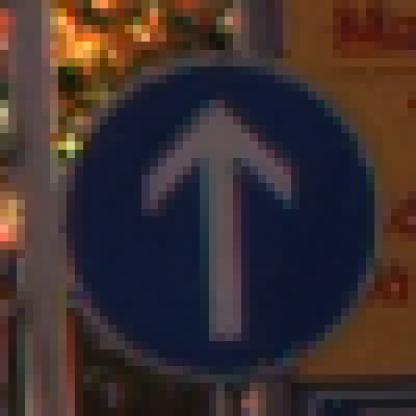AheadOnly: (51, 51, 375, 375)
